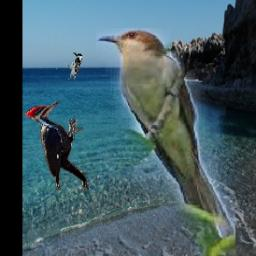Cuckoo: (97, 28, 236, 256)
Woodpecker: (23, 99, 89, 191), (67, 51, 83, 79)
